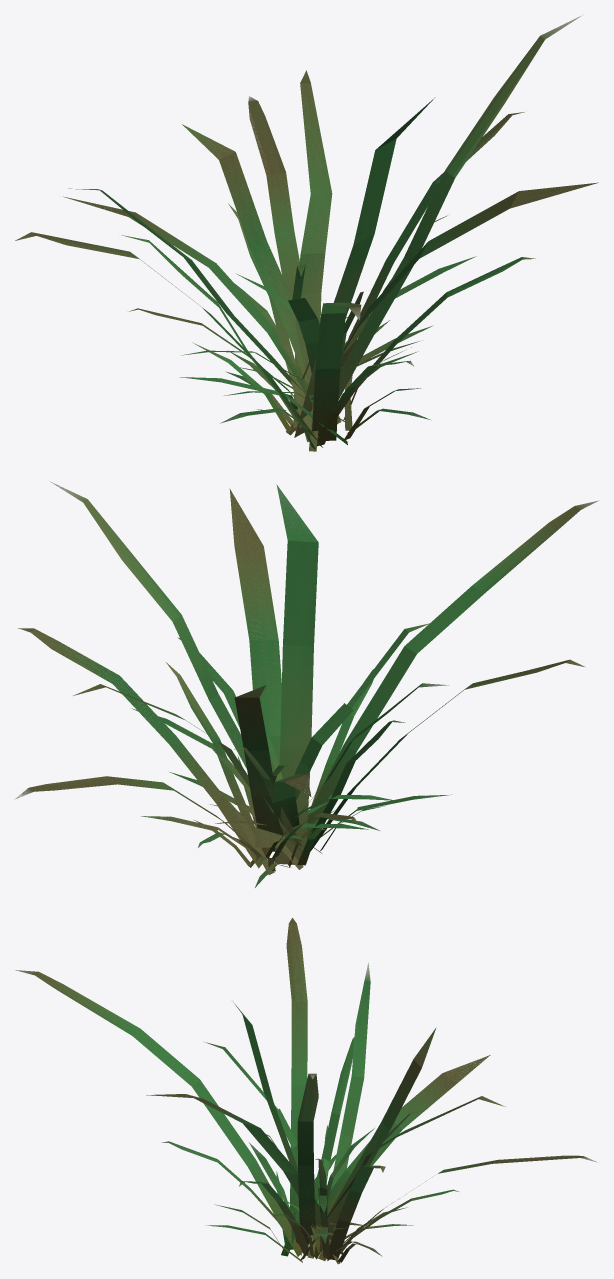
The model's file is mato.fbx.
3 views of the same model, one above another, from view 1: azimuth 30°, elevation 25°; view 2: azimuth 150°, elevation 25°; view 3: azimuth 270°, elevation 25° (orthographic). The views are drawn at different scales.
Parts seen in each view (by area): view 1: mato; view 2: mato; view 3: mato.
Part boxes in pixels (left/top/right/bottom): mato: left=15, top=15, right=598, bottom=451; mato: left=14, top=481, right=599, bottom=887; mato: left=15, top=918, right=598, bottom=1264.
Size of the model in its own units: 852 by 512 by 961.
